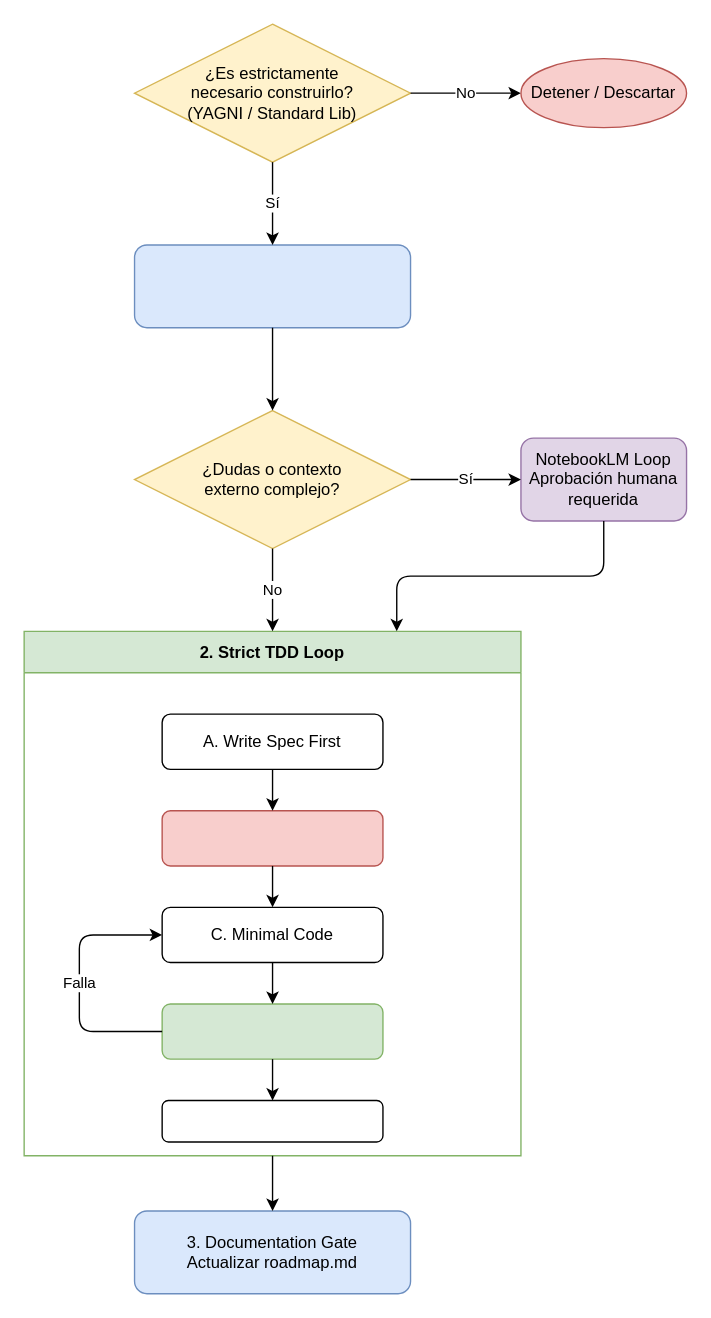
The diagram is 711 pixels wide and 1318 high, and some of its shapes have lost their labels. Here are the shapes that lost their labels. From the top down, the centre of each, then its label:
(272,286): 1. Context-First Leer roadmap.md, tests y docs de arquitectura
(272,837): B. Run Test (RED)
(272,1031): D. Run Test (GREEN)
(272,1120): E. Refactor
